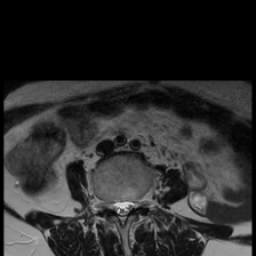CCS_normal: (119, 194, 125, 231)
LFS_normal: (133, 191, 142, 216)
LLS_normal: (125, 192, 133, 221)
RFS_normal: (105, 192, 112, 217)
RLS_normal: (112, 193, 119, 222)
